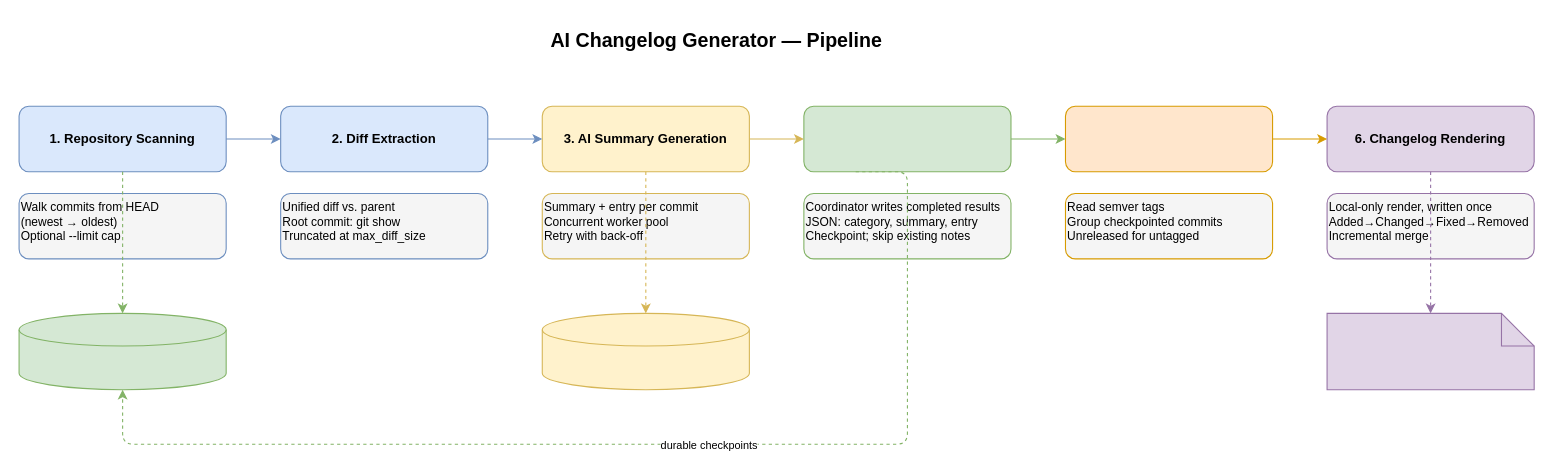
This 1553x472 diagram has some shape labels left out. Each missing label, with the box of its shape:
4. Git Notes Storage: (803, 105, 1011, 172)
5. Version Grouping: (1064, 105, 1273, 172)
CHANGELOG.md: (1326, 312, 1534, 390)
Git Repository (.git): (18, 312, 226, 390)
LiteLLM (Ollama / OpenAI / Anthropic / …): (541, 312, 749, 390)
